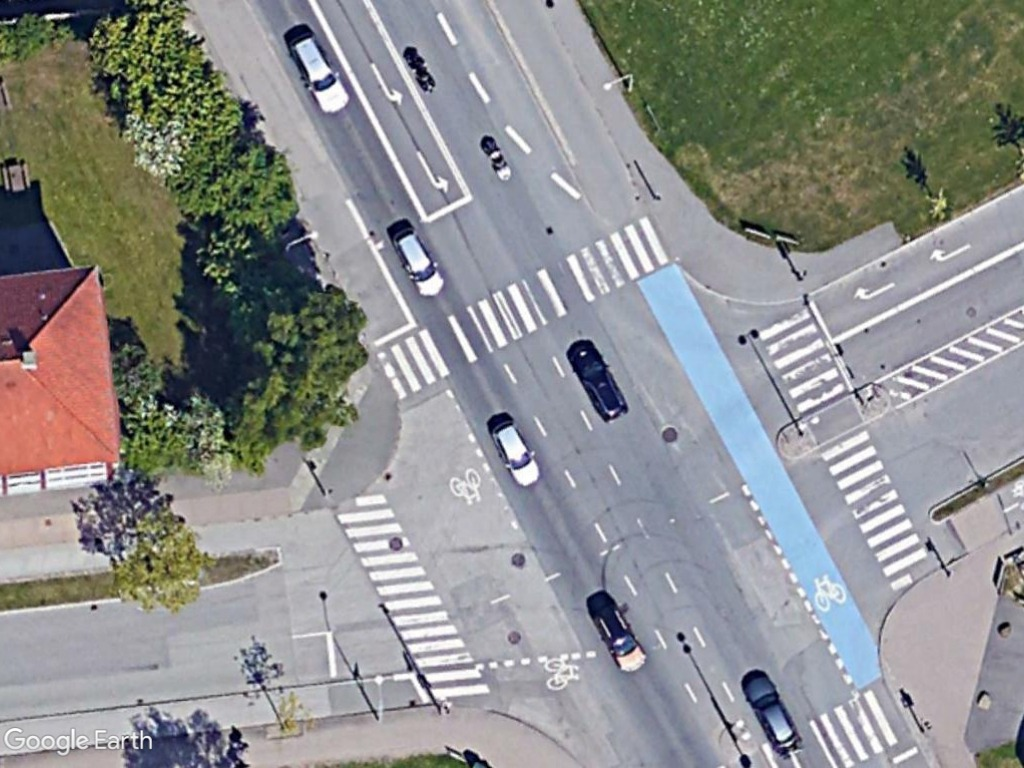car: (285, 27, 354, 118), (738, 670, 805, 760), (567, 340, 634, 430), (389, 223, 447, 300), (593, 600, 649, 679), (491, 415, 545, 493)
